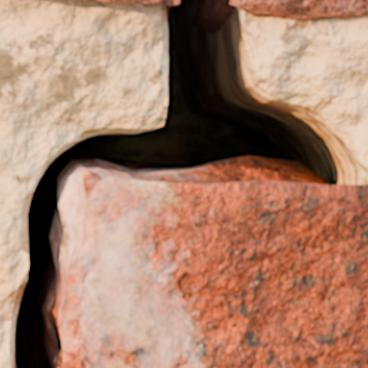brick: (62, 171, 367, 367)
broken_brick: (231, 0, 367, 20), (76, 0, 178, 6)
crack: (1, 0, 367, 367)
